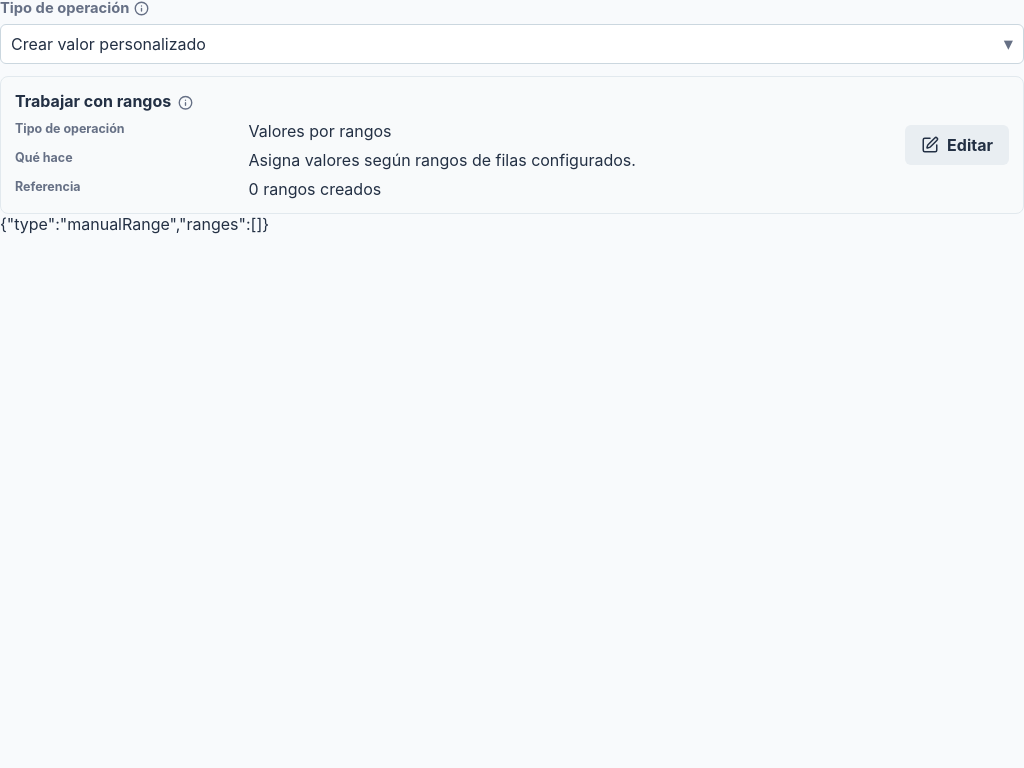
Test: OutputColumnRecipeEditor interactive modal flow › opens discard confirmation on Escape when draft changed
Click the button "Editar" at (957, 145), box x1=905 y1=125 x2=1009 y2=165
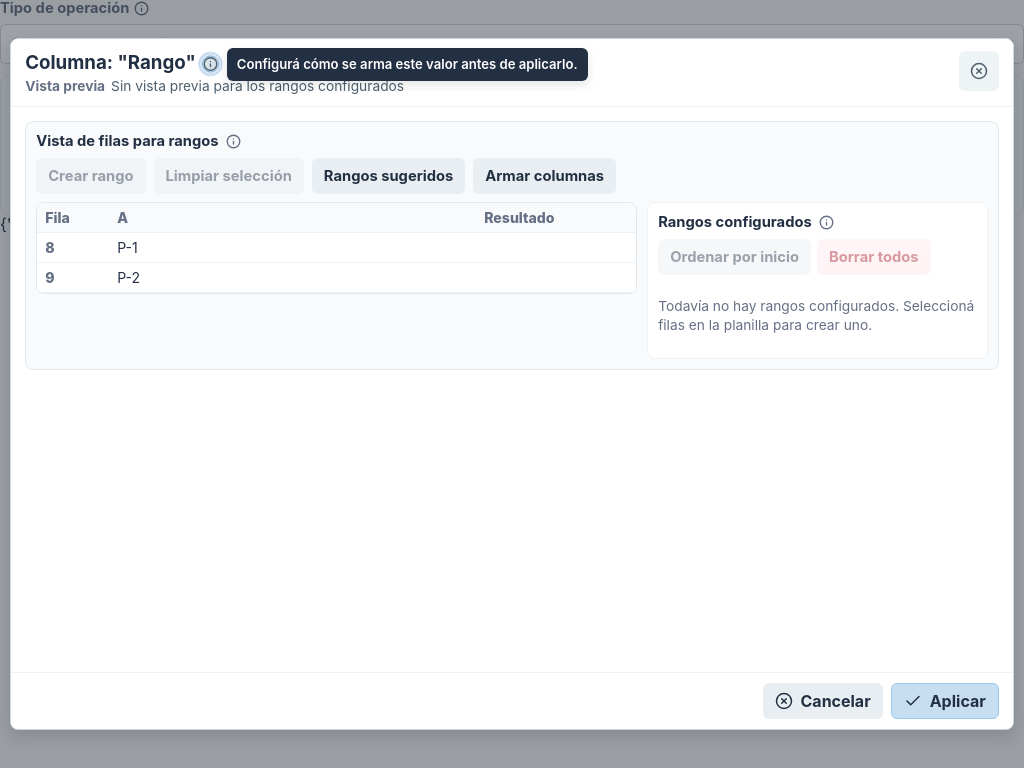
Click the button named "Seleccionar fila 8" at (337, 248), box x1=37 y1=233 x2=636 y2=263
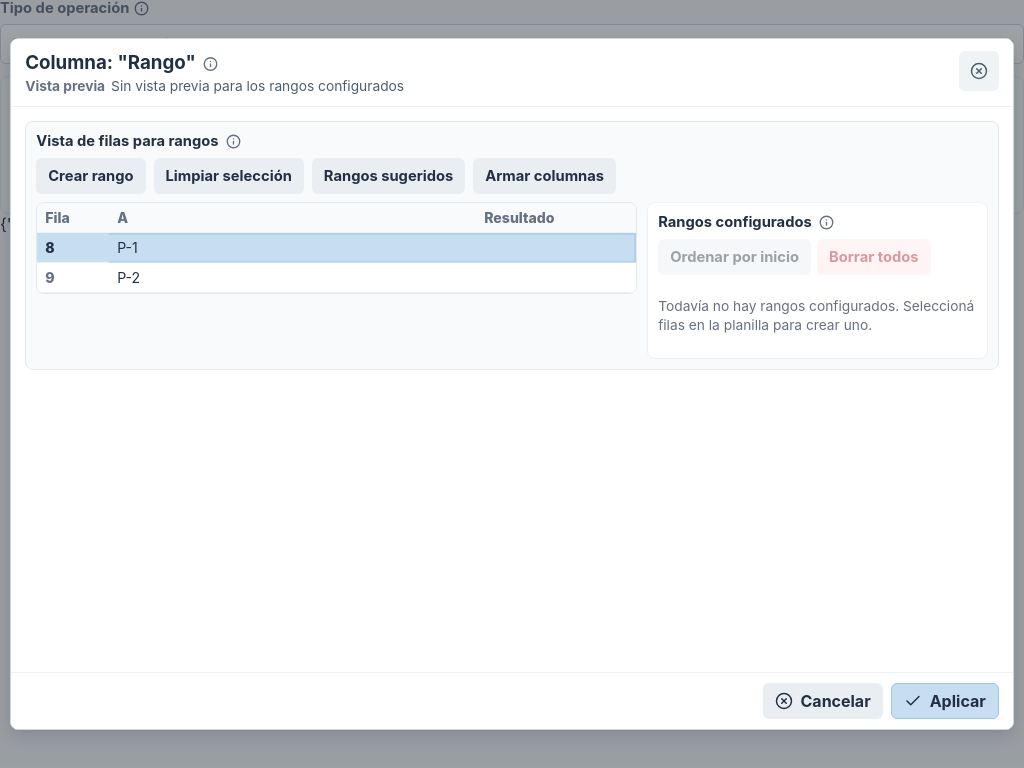
Click the button "Crear rango" at (91, 176), box x1=36 y1=158 x2=146 y2=194
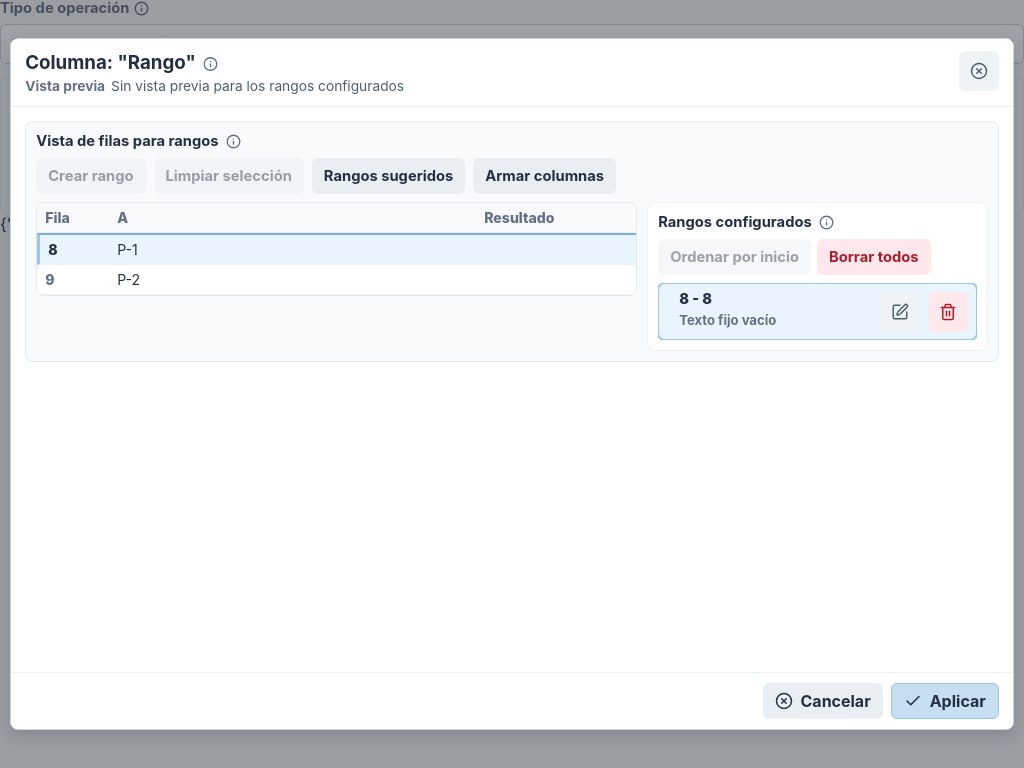
Press Escape
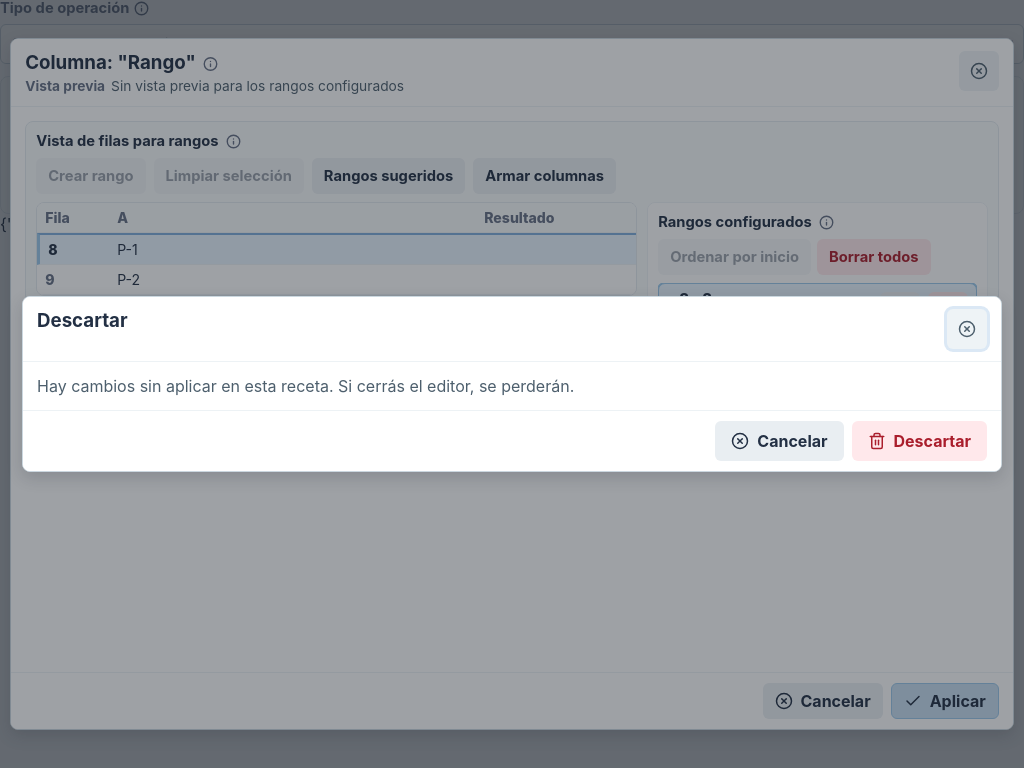
expect the text "Vista de filas para rangos" is shown: met, box x1=36 y1=132 x2=218 y2=150
expect the heading "Descartar" is shown: met, box x1=37 y1=309 x2=128 y2=332
